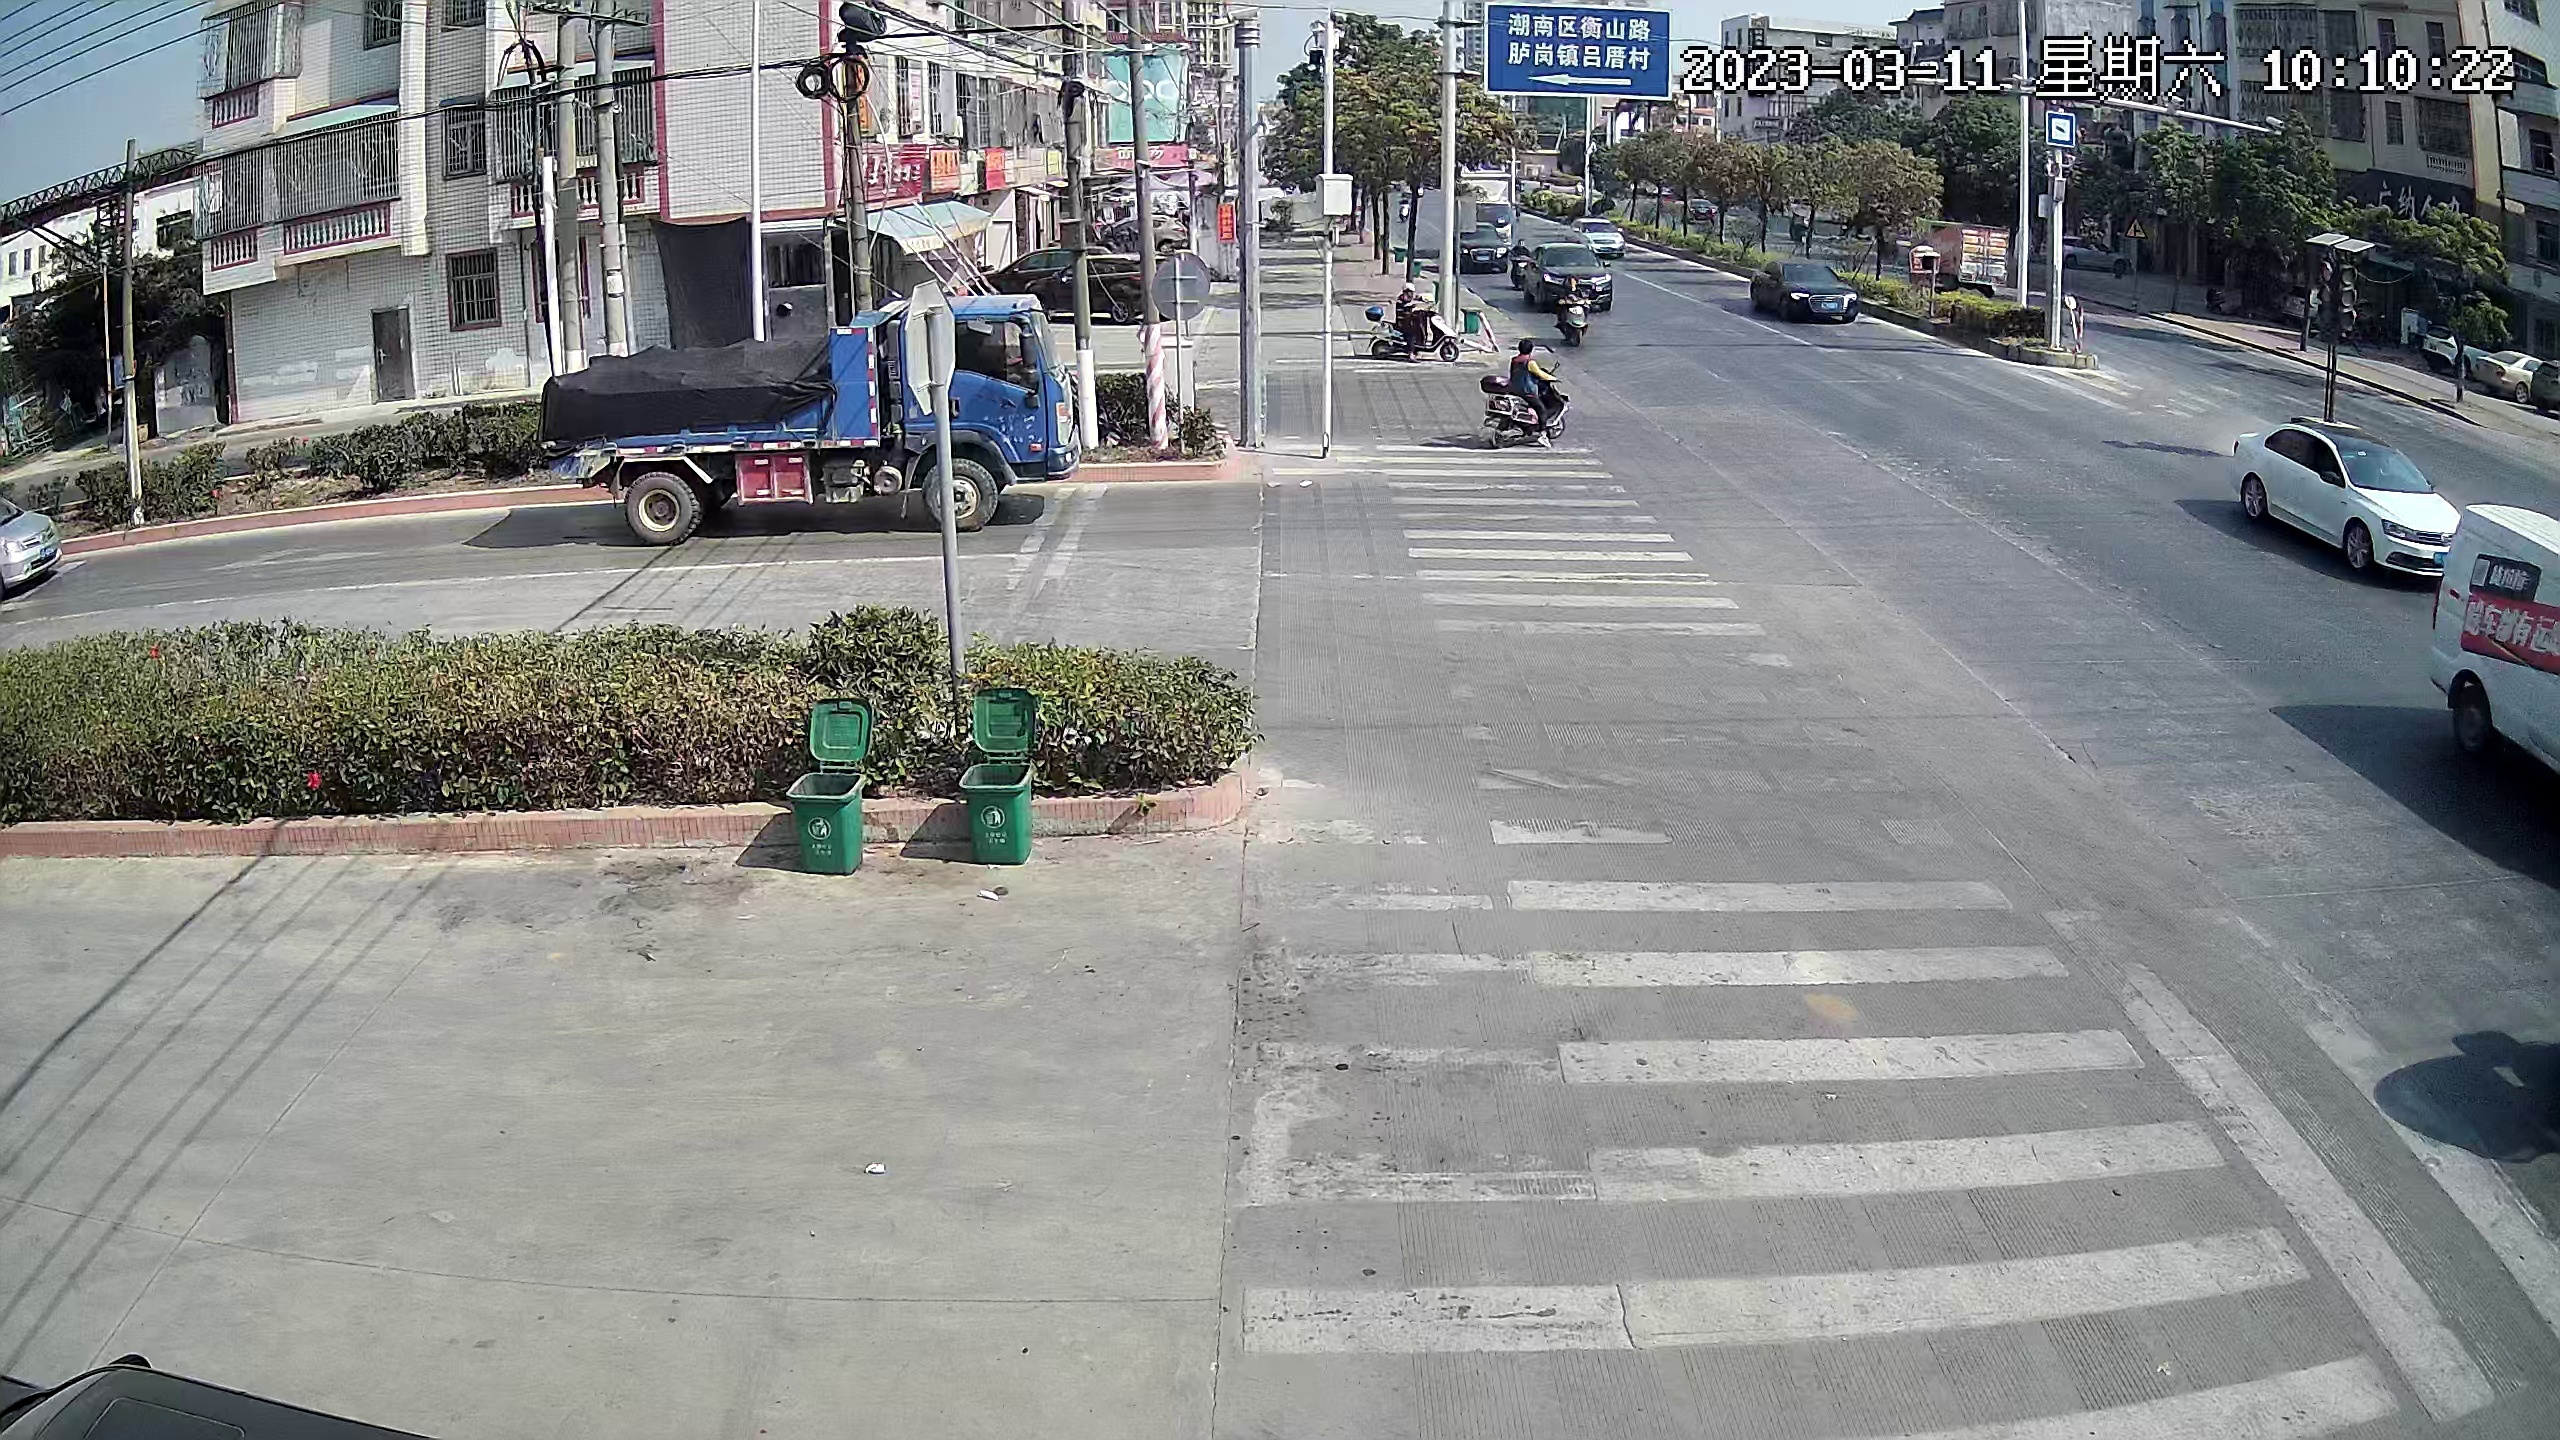motorcycle: (1493, 338, 1567, 462), (1364, 280, 1458, 360), (1551, 273, 1595, 343)
sedan: (2, 1350, 476, 1438), (2229, 410, 2455, 582), (1753, 253, 1873, 336), (1043, 262, 1150, 325), (2, 491, 65, 587), (2045, 230, 2124, 278), (2483, 353, 2534, 397), (2426, 318, 2460, 373), (1582, 218, 1625, 258)
suv: (1533, 244, 1611, 308)
truck: (543, 316, 1074, 536), (2456, 508, 2560, 795), (1924, 213, 2008, 304), (1470, 162, 1512, 243)
